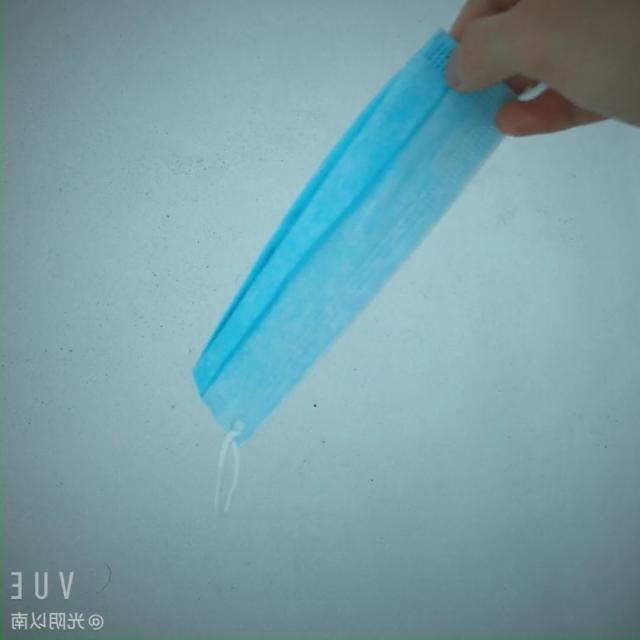face mask: (176, 12, 534, 445)
